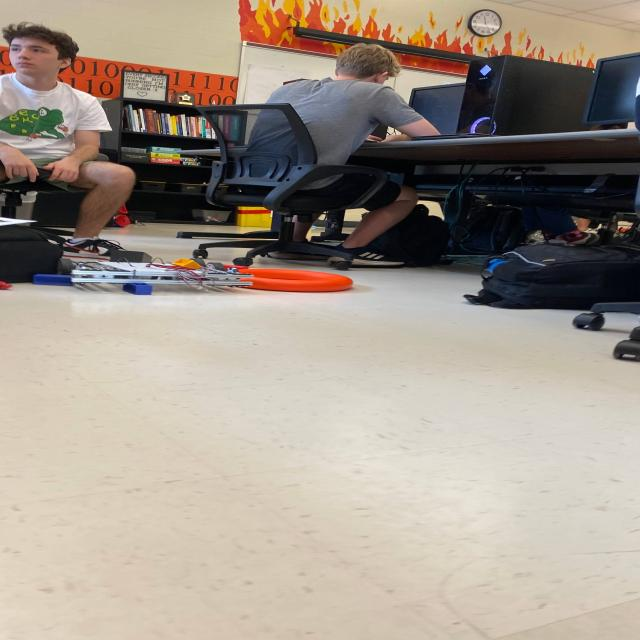blue-specimen: (33, 274, 72, 286), (123, 283, 152, 295)
yellow-specimen: (172, 258, 201, 270)
